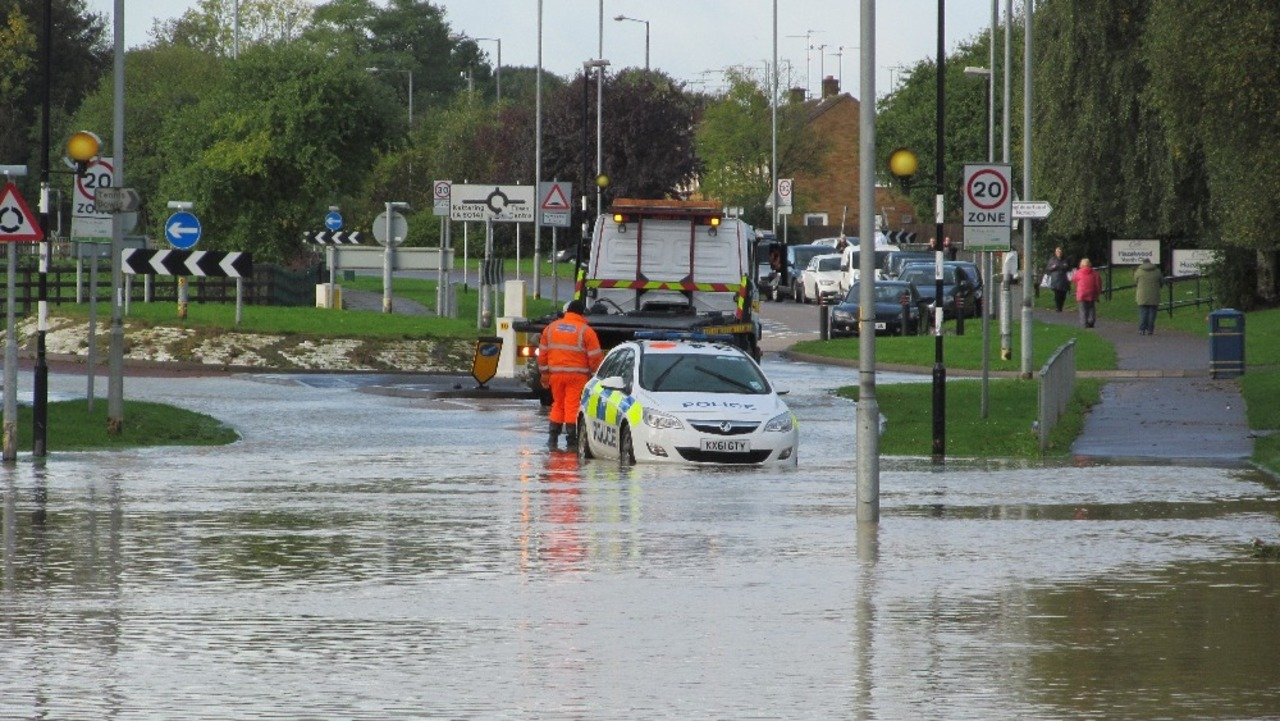car: (572, 338, 798, 470), (827, 279, 922, 337), (899, 263, 966, 311), (800, 254, 838, 294)
person: (1072, 258, 1103, 327), (1133, 258, 1160, 336), (1044, 245, 1074, 313)
